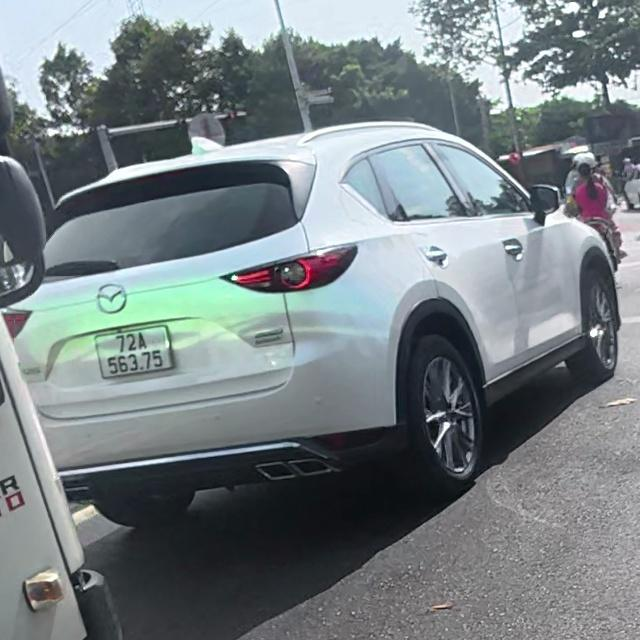license-plate: (92, 328, 175, 378)
